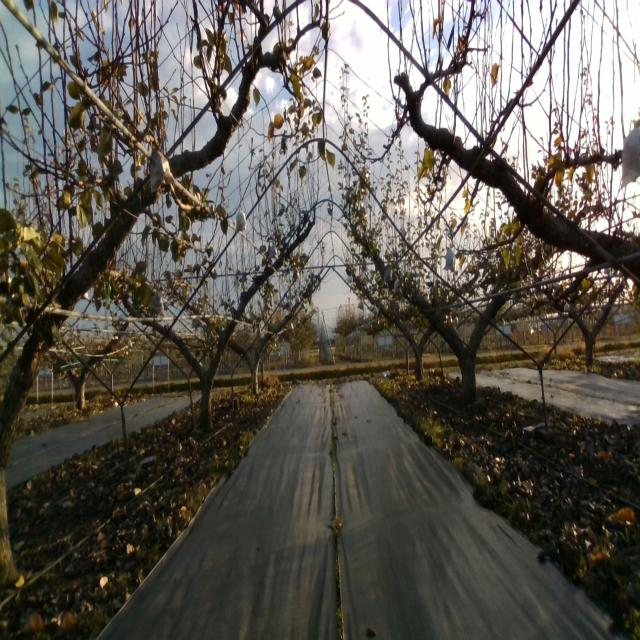pearbags: (621, 120, 640, 186), (150, 150, 176, 193), (235, 206, 248, 232), (444, 244, 456, 272)
